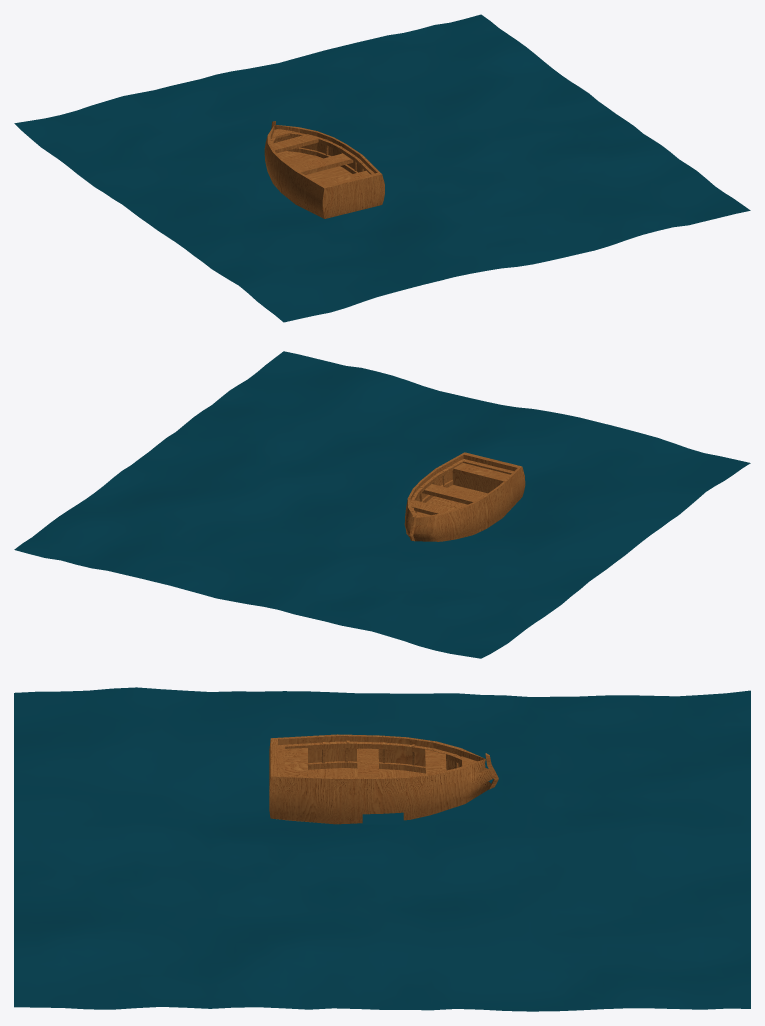
File: boat.glb
The picture shows the model from 3 angles, top to bottom: view 1: azimuth 30°, elevation 25°; view 2: azimuth 150°, elevation 25°; view 3: azimuth 270°, elevation 25°; orthographic projection. The views are drawn at different scales.
Parts seen in each view (by area): view 1: BossOutput, pPlane3; view 2: BossOutput, pPlane3; view 3: BossOutput, pPlane3.
Boxes of the visible parts, x1,y1,x2,y2 form: BossOutput: (14,14,750,322); pPlane3: (264,121,384,218); BossOutput: (14,351,750,658); pPlane3: (404,452,525,541); BossOutput: (14,687,750,1011); pPlane3: (269,734,498,824).
Size of the model in its own units: 9.17 by 0.812 by 9.17.
Materials: 2 (1 with a texture image).
